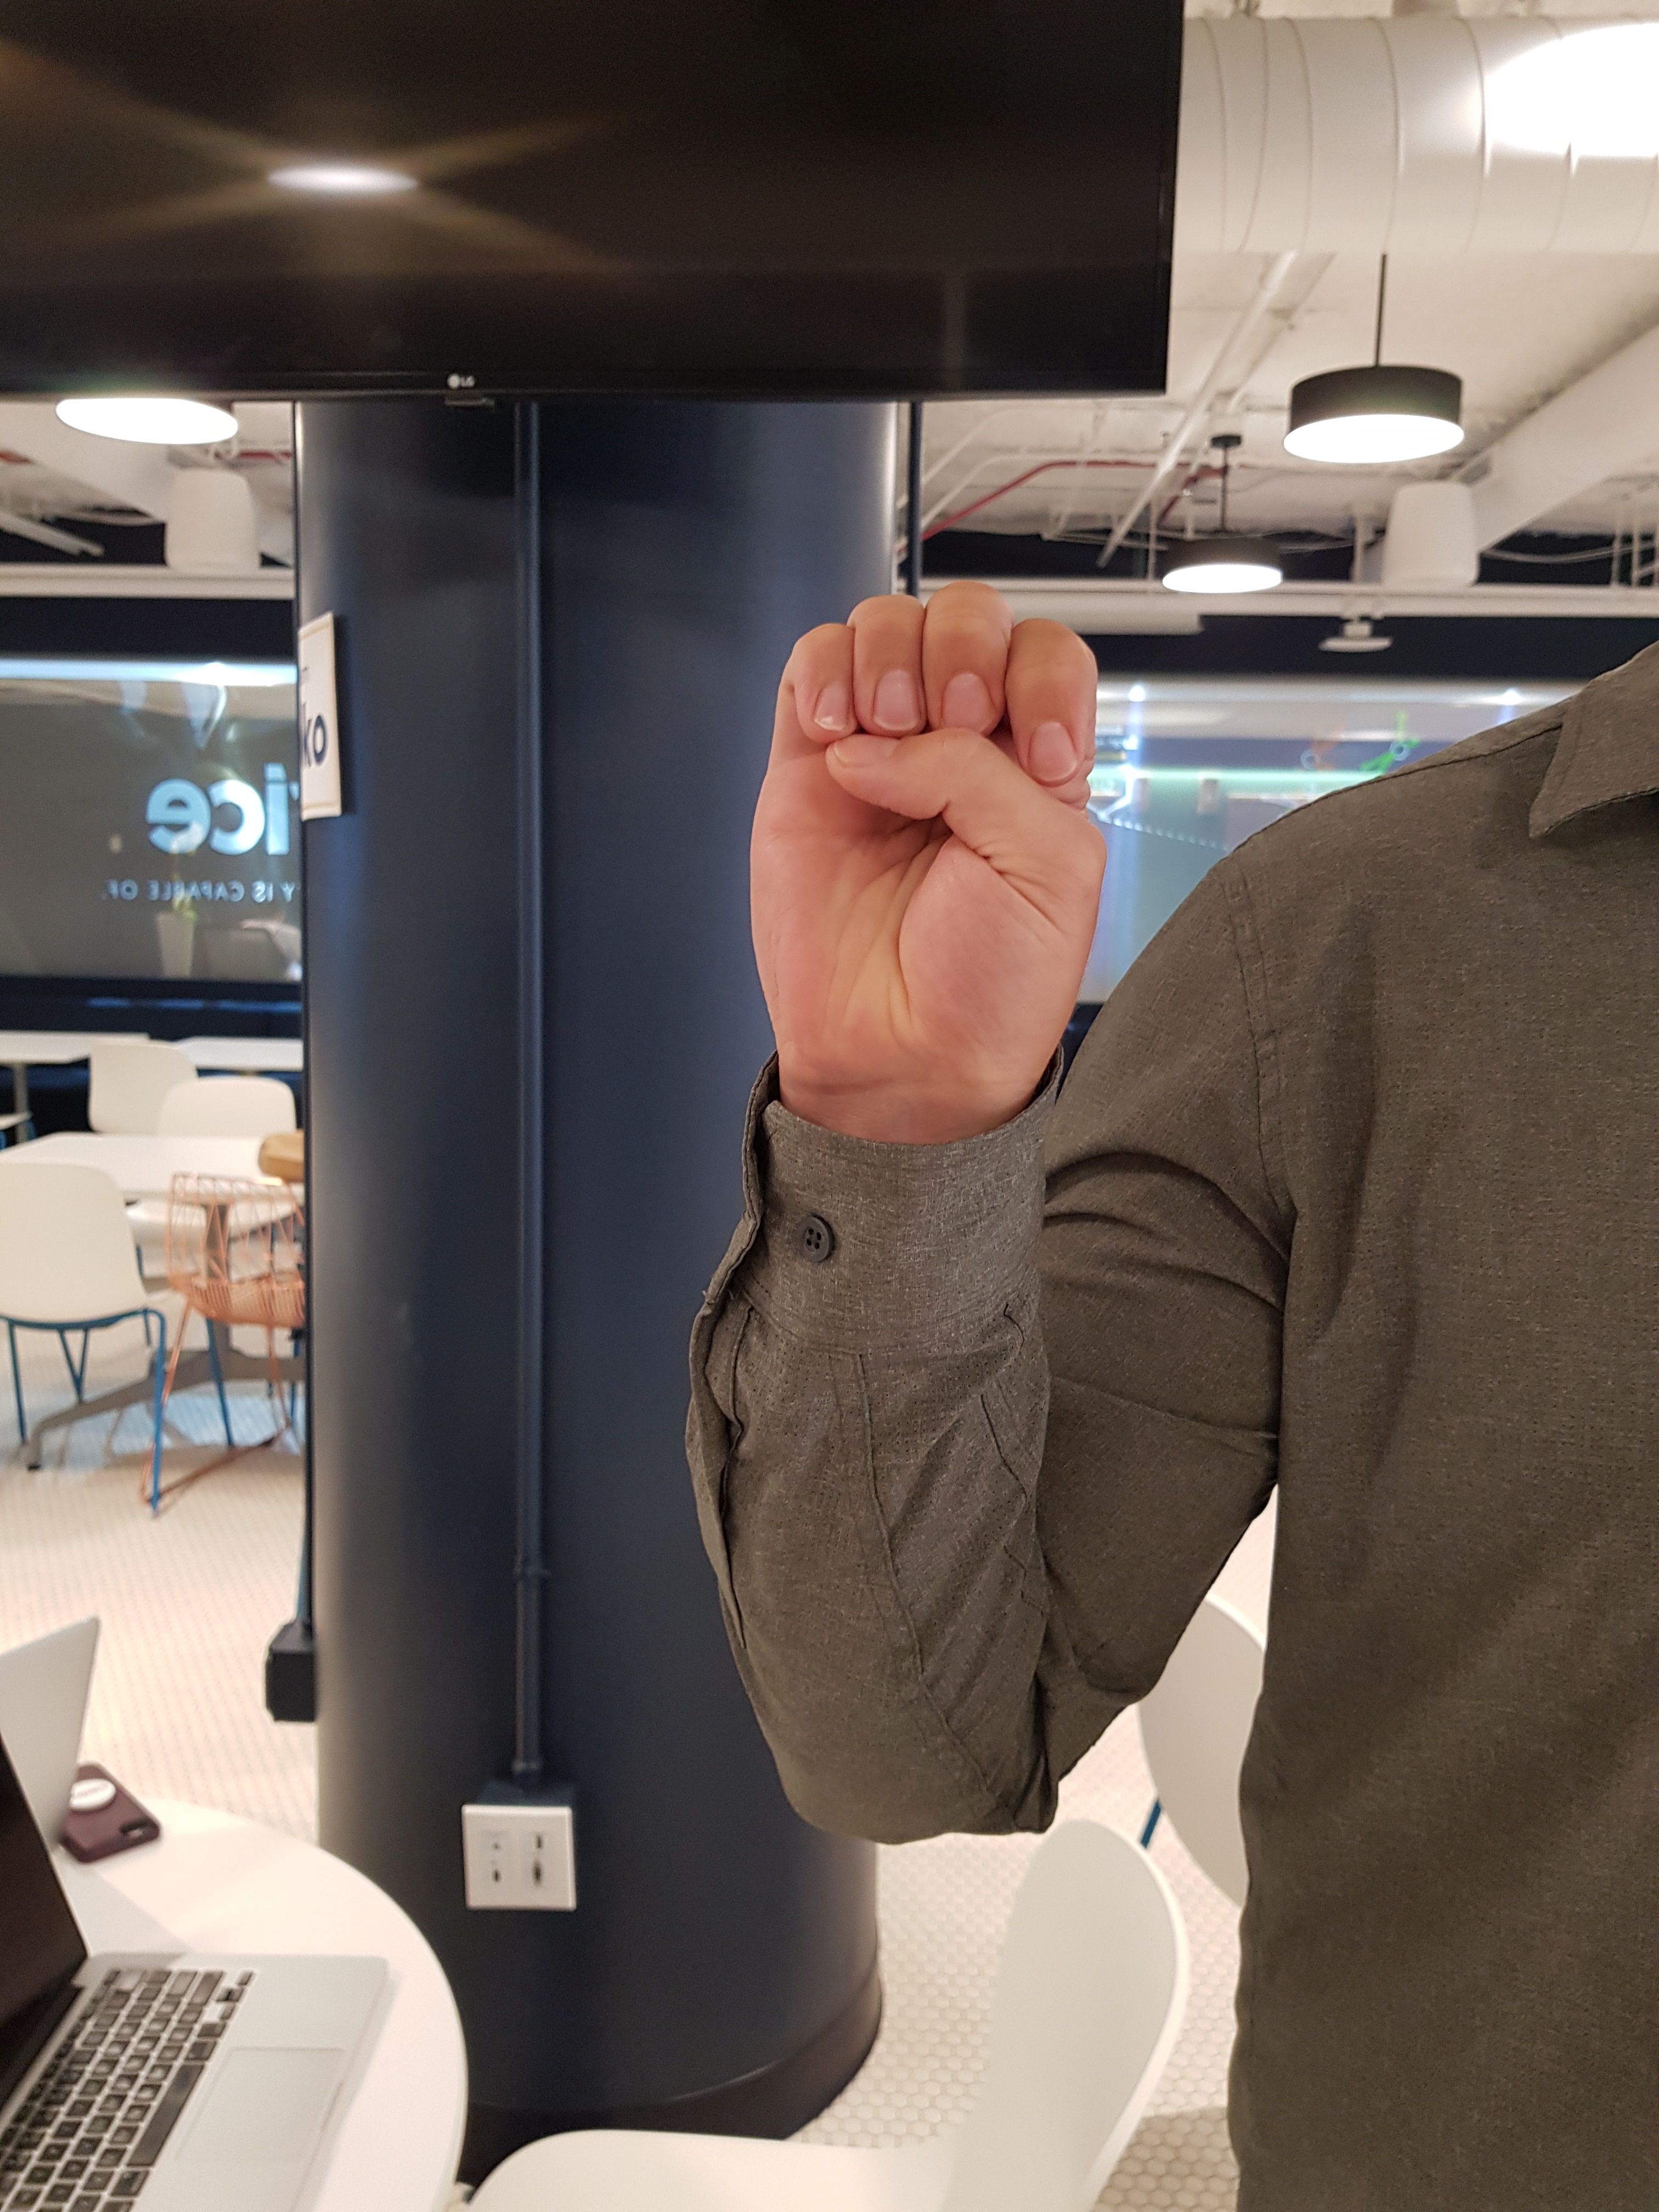e: (706, 554, 1147, 1148)
